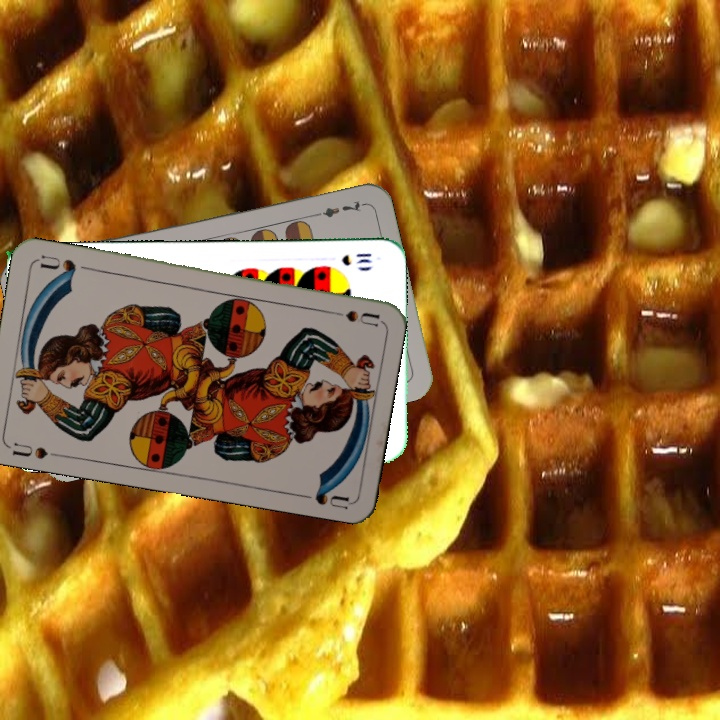E7: (308, 196, 366, 220)
S10: (337, 249, 374, 268)
SU: (322, 305, 381, 329), (8, 439, 51, 462)
